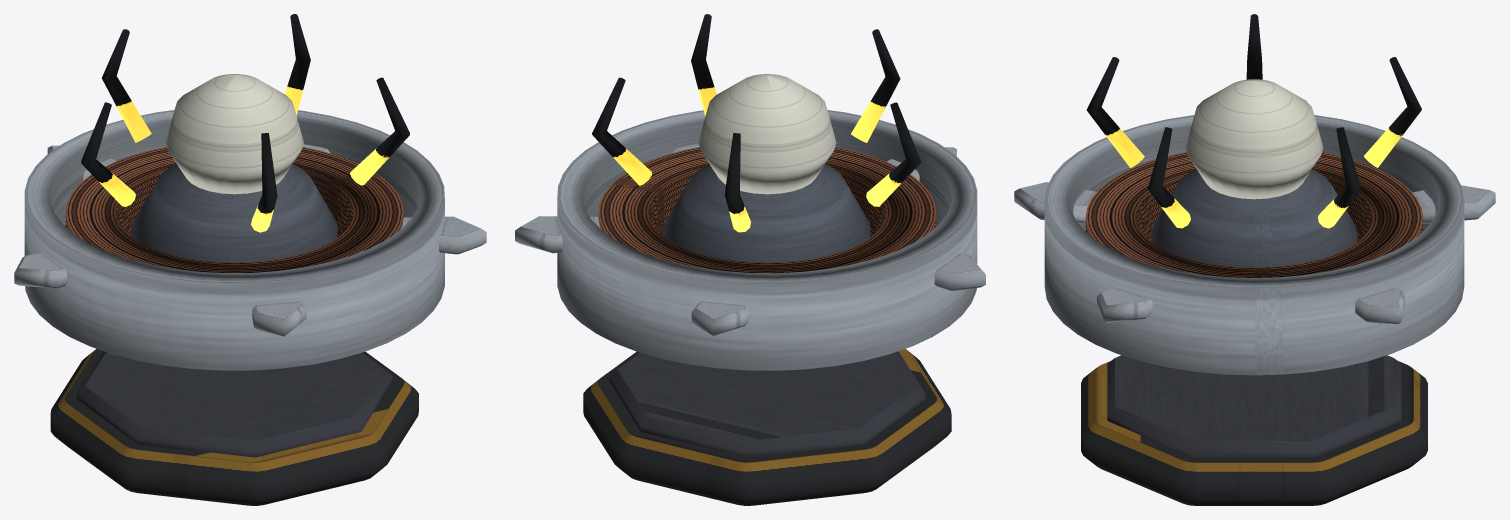
The model's file is focus.glb.
3 views of the same model, side by side, from view 1: azimuth 30°, elevation 25°; view 2: azimuth 150°, elevation 25°; view 3: azimuth 270°, elevation 25° (orthographic).
Parts seen in each view (by area): view 1: FocusHull; view 2: FocusHull; view 3: FocusHull.
Part boxes in pixels (x1,y1,x2,y2): FocusHull: (14, 14, 486, 505); FocusHull: (515, 14, 985, 505); FocusHull: (1014, 14, 1495, 505).
Size of the model in its own units: 0.483 by 0.4165 by 0.5022.
Materials: 1 (1 with a texture image).
